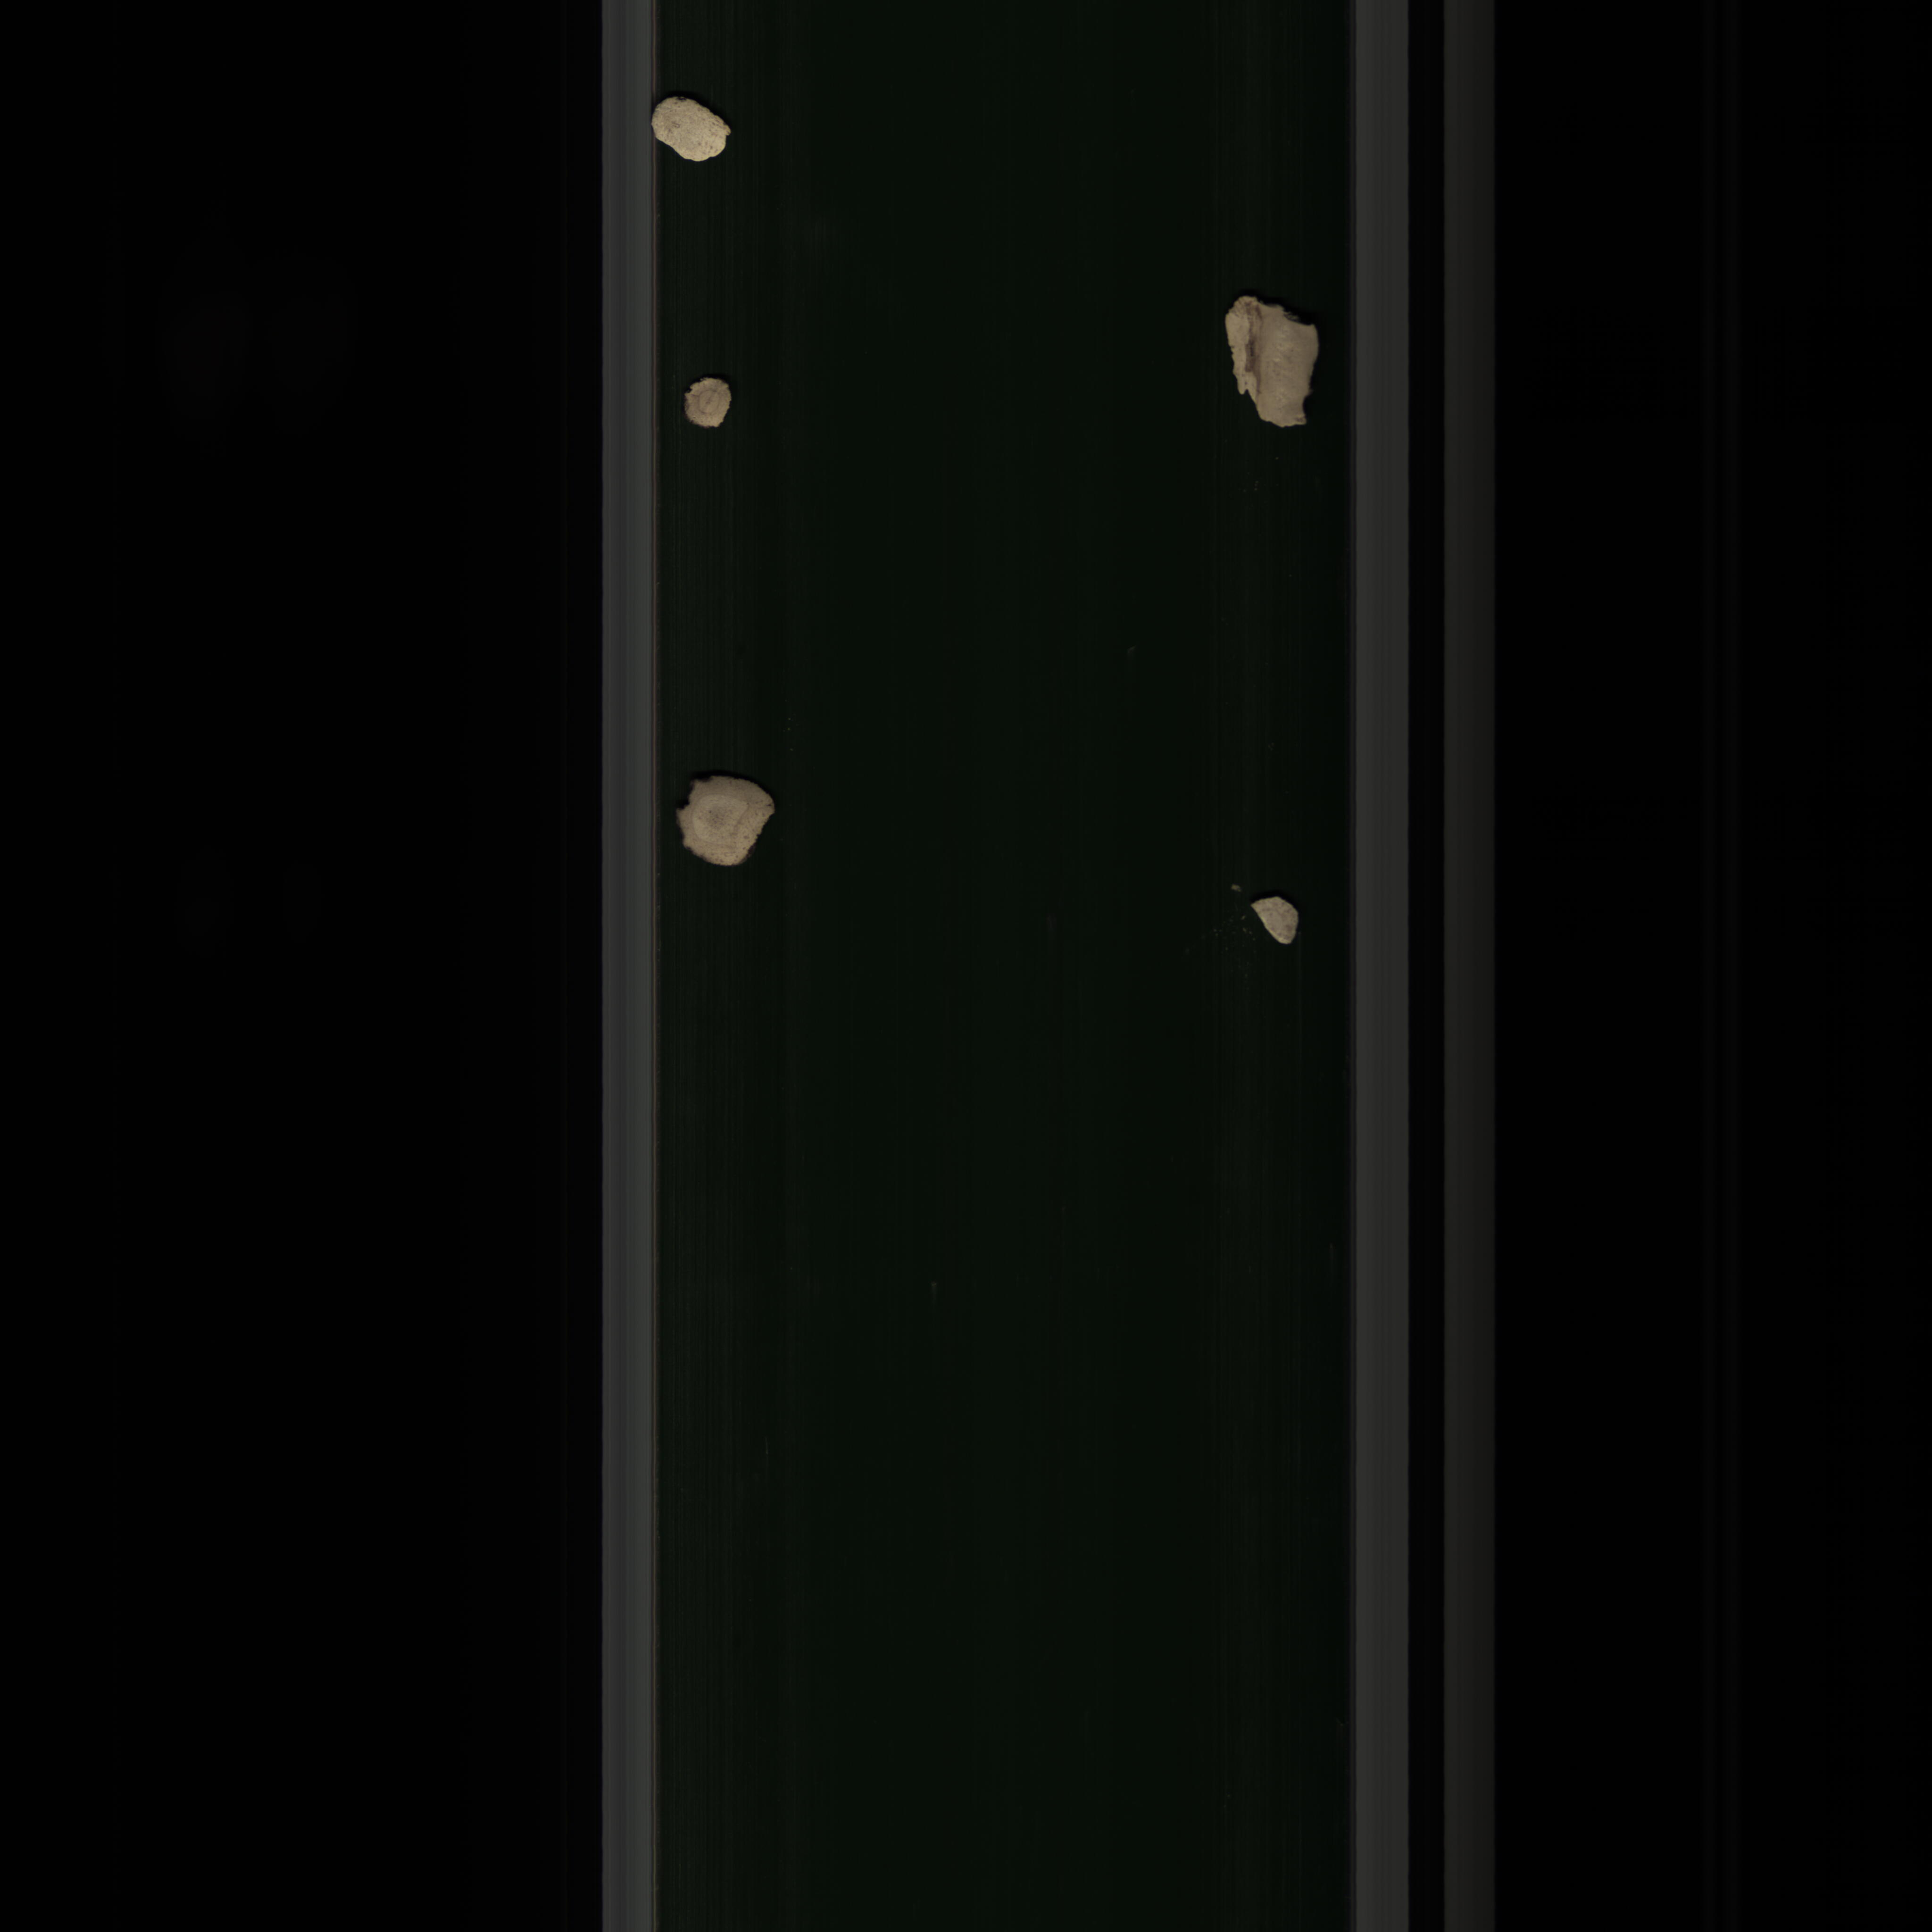debris: (1205, 290, 1330, 448), (669, 764, 805, 881), (648, 88, 740, 177), (674, 372, 745, 441), (1246, 892, 1309, 954)
